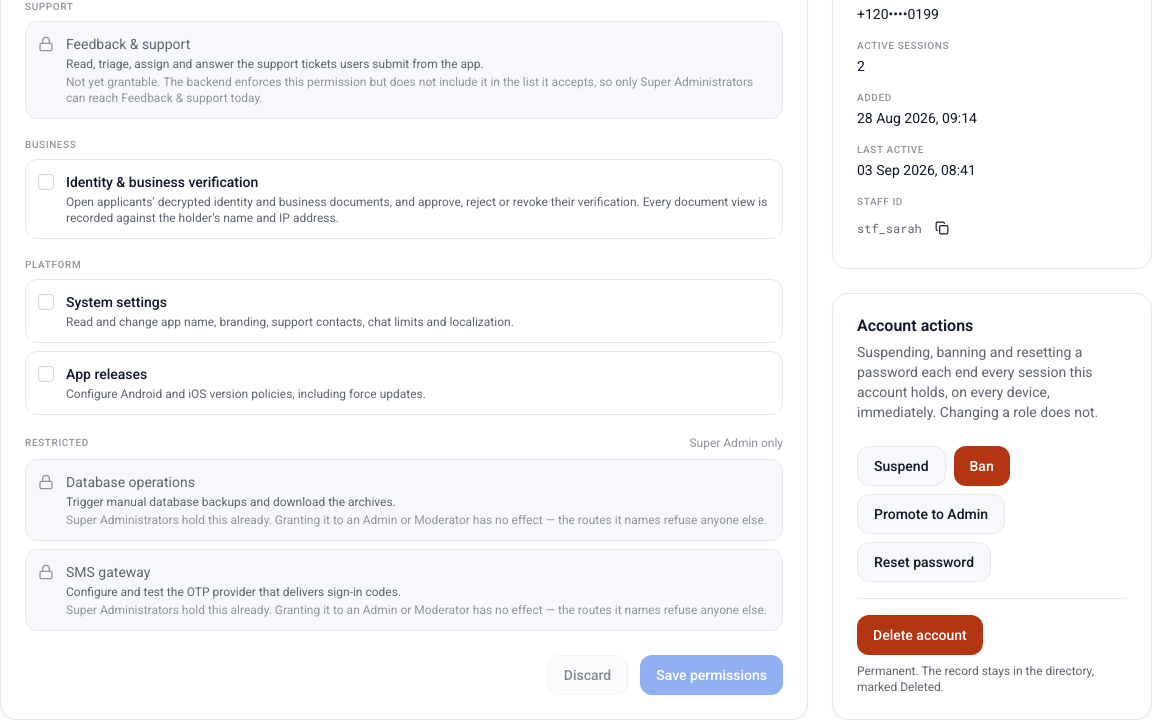
Test: role changes › states that permissions do not change, and asks for no reason
Click the button "Promote to Admin".
click(931, 514)  # box 857,494 -> 1005,534
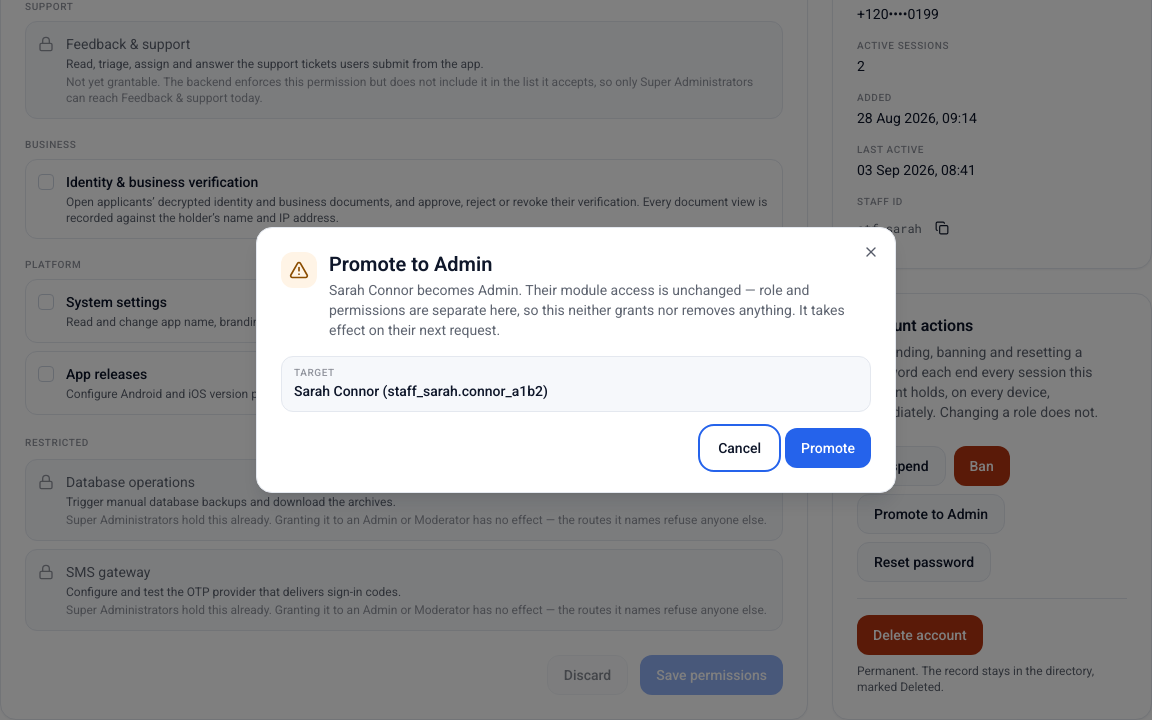
Result: the text "module access is unchanged" is shown at 329,282 -> 845,338
